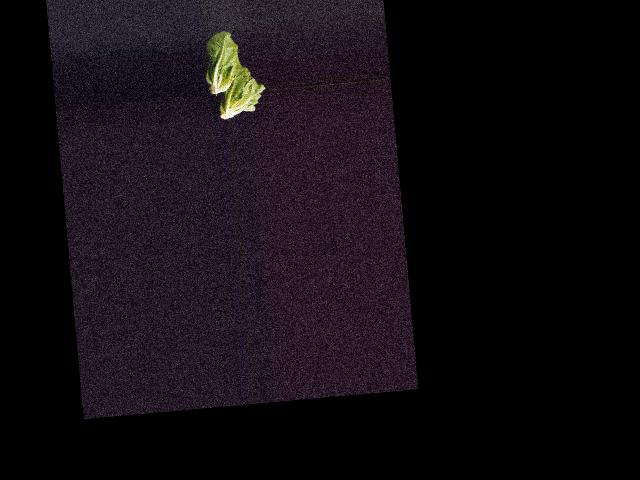lettuce: (208, 54, 266, 120)
